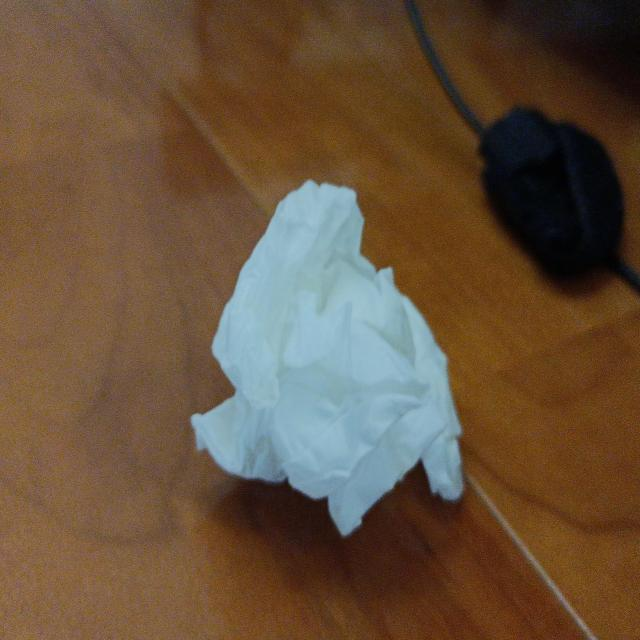Paper: (187, 163, 446, 520)
